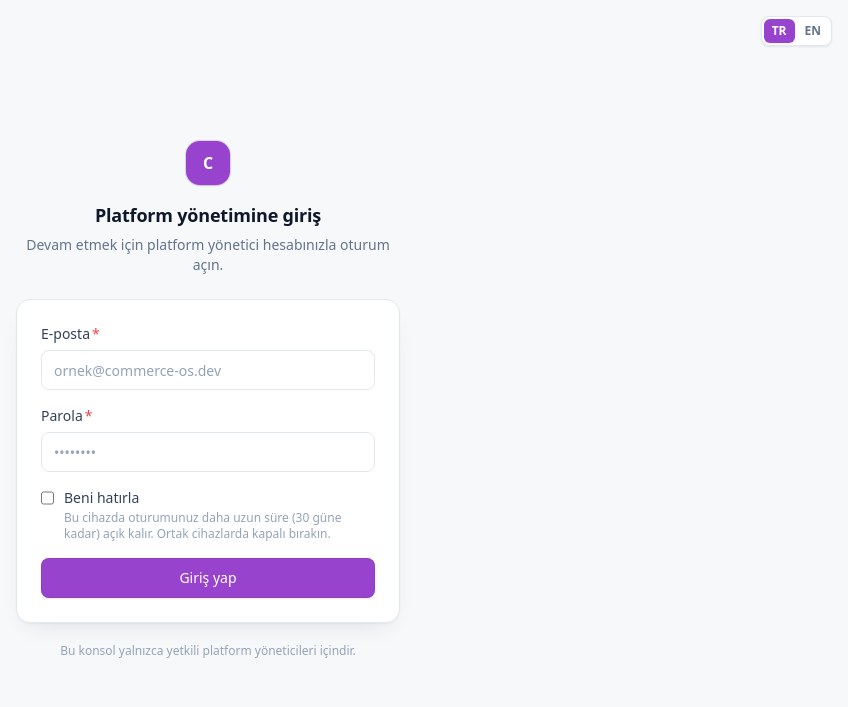
it: admin-web interactions › renders login form validation and Turkish invalid-credential feedback
This screenshot has width=848, height=707.
Click the button "Giriş yap" at (208, 578), box [41,558,375,598]
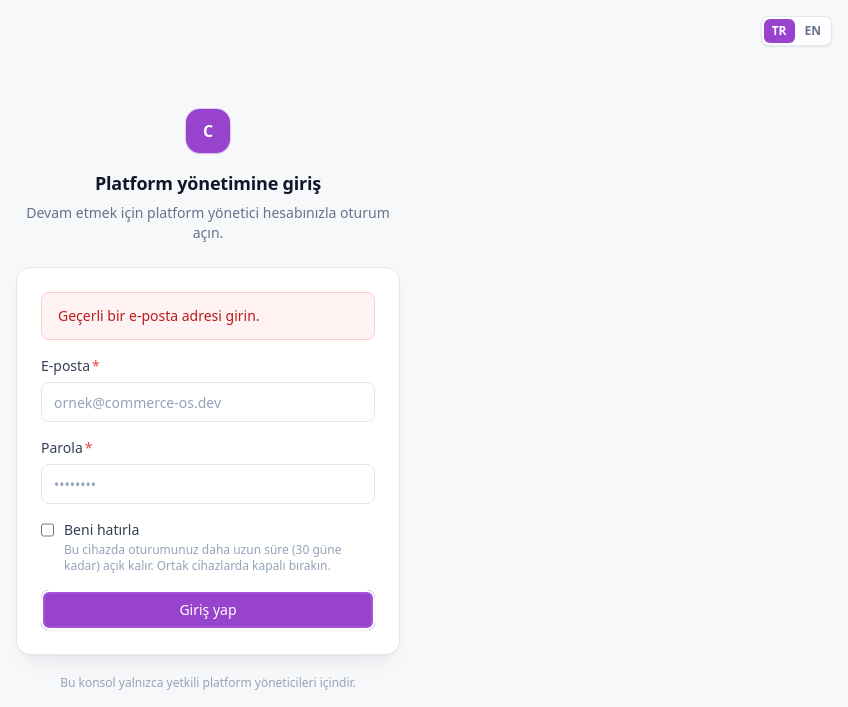
Now the text "Geçerli bir e-posta adresi girin." is shown, box [58,305,260,327]
Type "admin@example.local" into the field labelled "E-posta" at (208, 402), box [41,382,375,422]
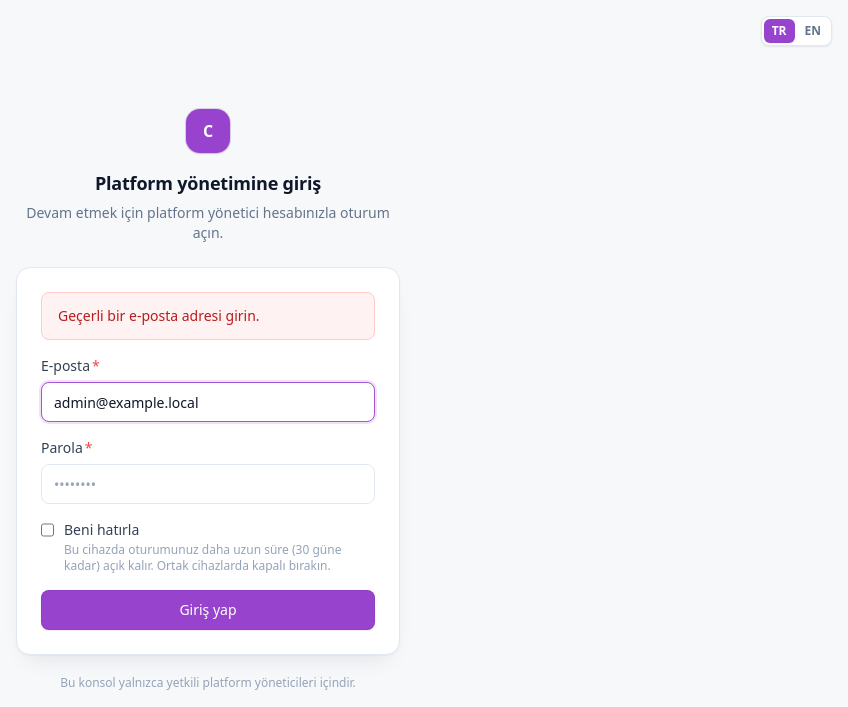
Type "wrong-password" into the password field labelled "Parola" at (208, 484), box [41,464,375,504]
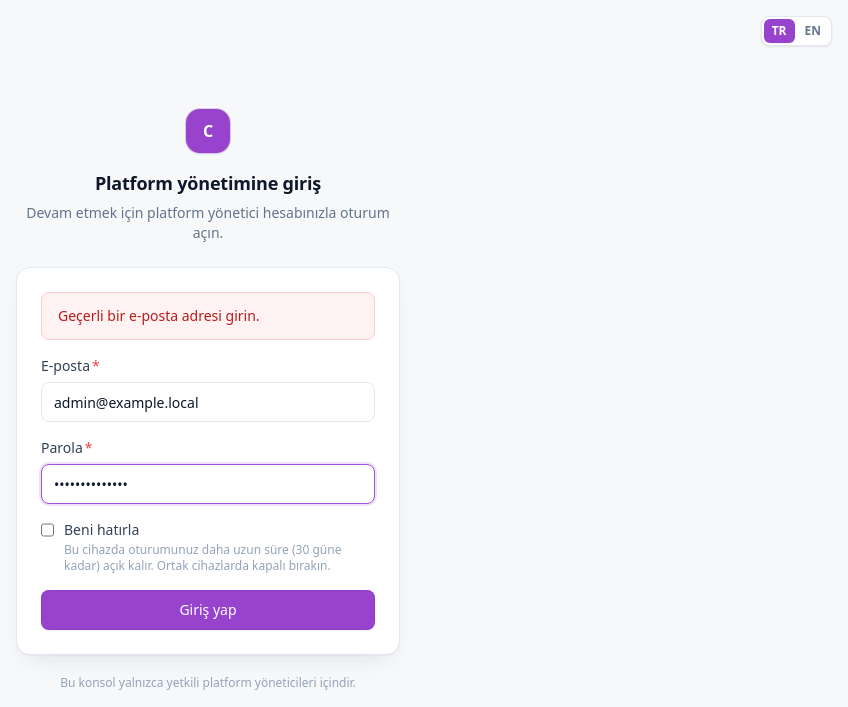
Click the button "Giriş yap" at (208, 610), box [41,590,375,630]
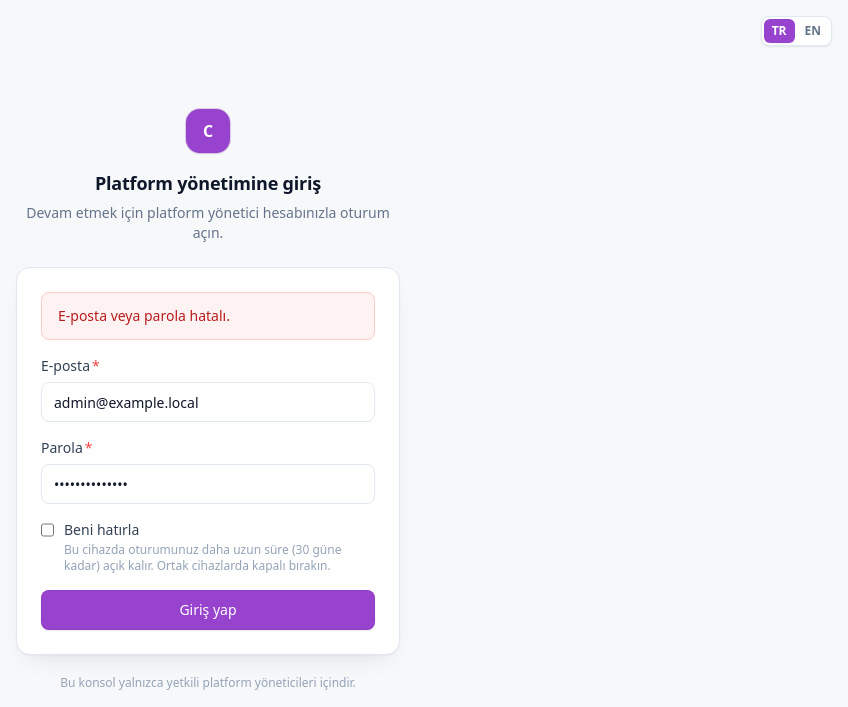
Now the text "E-posta veya parola hatalı." is shown, box [58,305,230,327]
